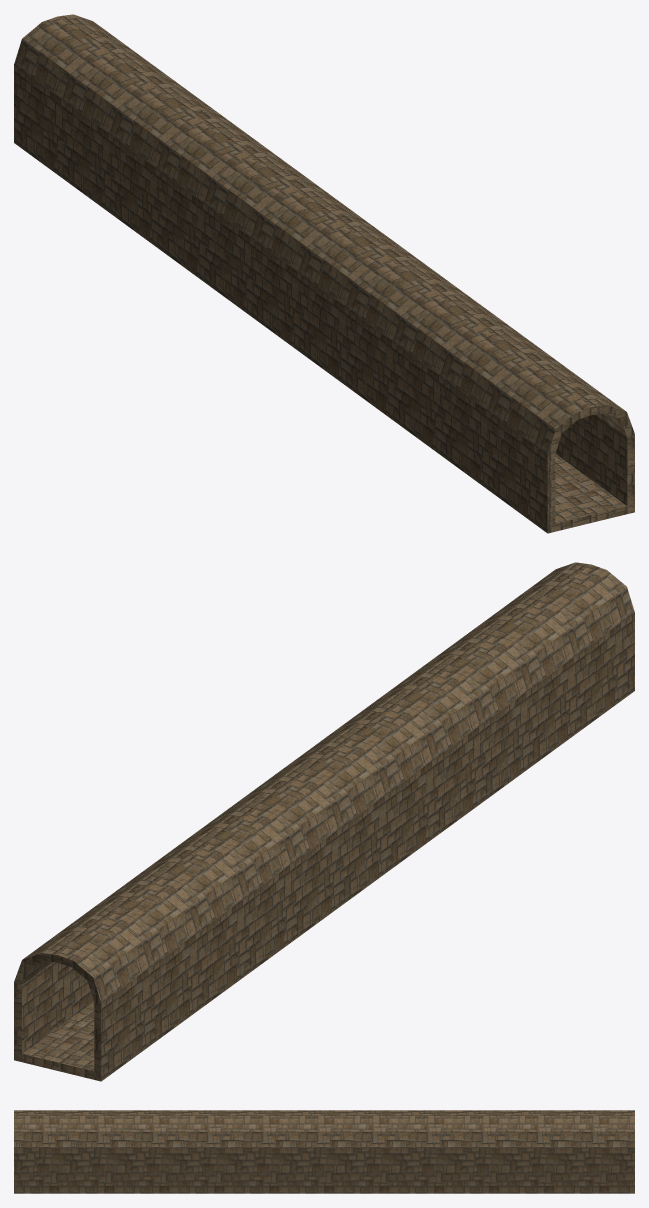
Rendered from Tunnels.glb.
The picture shows the model from 3 angles, top to bottom: view 1: azimuth 30°, elevation 25°; view 2: azimuth 150°, elevation 25°; view 3: azimuth 270°, elevation 25°; orthographic projection. The views are drawn at different scales.
Visible parts, largest first — view 1: Plane; view 2: Plane; view 3: Plane.
Part boxes in pixels (box(x1,y1,x2,y2)): Plane: box(14, 14, 634, 533); Plane: box(14, 562, 634, 1081); Plane: box(14, 1110, 634, 1193).
Bounding box in the file's own units: 2.06 × 2.61 × 21.77.
1 material, 1 textured.
